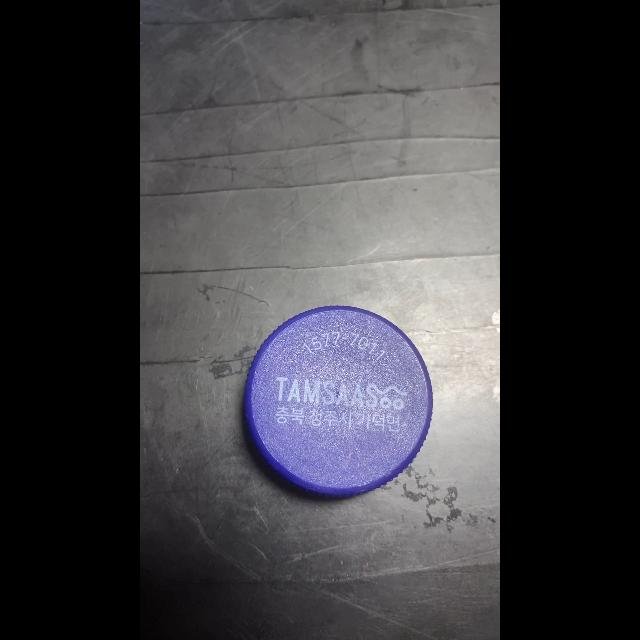plastic_bottle_cap: (242, 298, 436, 502)
